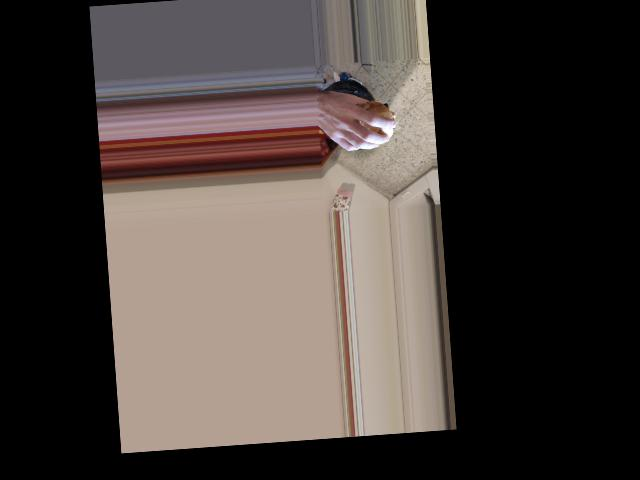onion: (354, 101, 395, 144)
